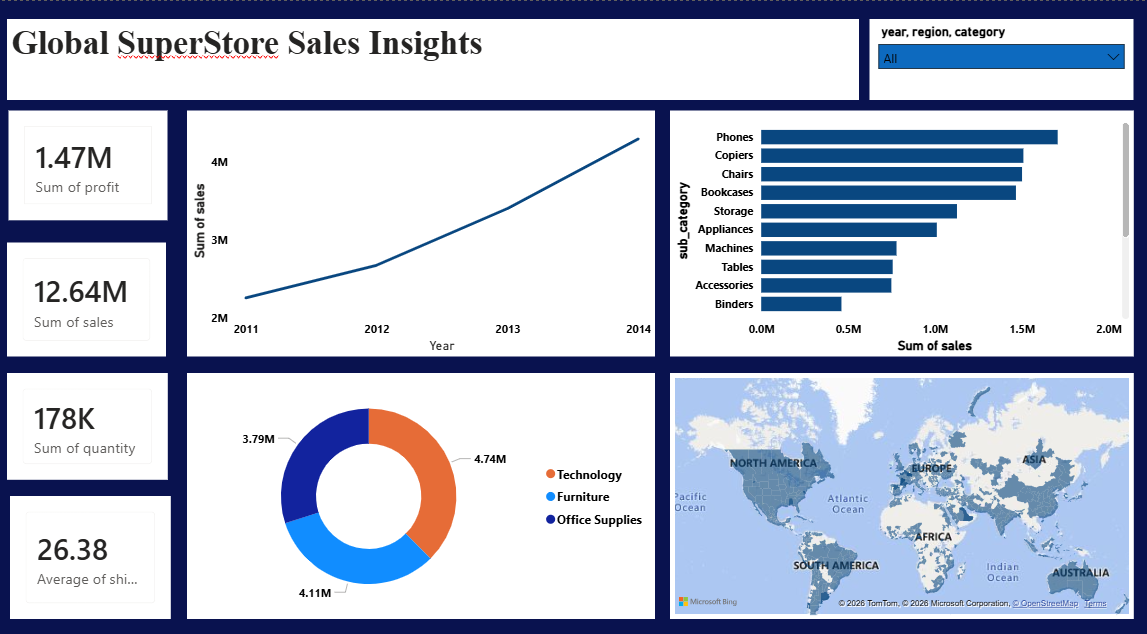

Layout of this report page (visuals, bound fields, positions):
{"tool":"powerbi","page":{"name":"Page 1","canvas":[1280,720],"ordinal":0},"visuals":[{"type":"textbox","box":[10,20,946.7,90],"z":0},{"type":"cardVisual","fields":{"Data":["Sum(SuperStoreOrders.sales)"]},"box":[10,268.3,176.7,126.7],"z":1000},{"type":"cardVisual","fields":{"Data":["Sum(SuperStoreOrders.profit)"]},"box":[11.7,121.7,176.7,121.7],"z":2000},{"type":"cardVisual","fields":{"Data":["Sum(SuperStoreOrders.quantity)"]},"box":[10,413.3,178.3,118.3],"z":3000},{"type":"lineChart","fields":{"Category":["SuperStoreOrders.order_date.Variation.Date Hierarchy.Year","SuperStoreOrders.order_date.Variation.Date Hierarchy.Quarter","SuperStoreOrders.order_date.Variation.Date Hierarchy.Month","SuperStoreOrders.order_date.Variation.Date Hierarchy.Day"],"Y":["Sum(SuperStoreOrders.sales)"]},"box":[210,121.7,520,273.3],"z":4000},{"type":"donutChart","fields":{"Category":["SuperStoreOrders.category"],"Y":["Sum(SuperStoreOrders.sales)"]},"box":[210,413.3,520,273.3],"z":5000},{"type":"barChart","fields":{"Category":["SuperStoreOrders.sub_category"],"Y":["Sum(SuperStoreOrders.sales)"]},"box":[746.7,121.7,515,273.3],"z":6000},{"type":"filledMap","fields":{"Category":["SuperStoreOrders.state"]},"box":[746.7,413.3,515,273.3],"z":7000},{"type":"slicer","fields":{"Values":["SuperStoreOrders.year","SuperStoreOrders.region","SuperStoreOrders.category"]},"box":[968.3,20,293.3,90],"z":7001},{"type":"cardVisual","fields":{"Data":["Avg(SuperStoreOrders.shipping_cost)"]},"box":[13.3,550,178.3,136.7],"z":7002}]}

Visuals, with their boxes in screenshot pixels (x1, y1, x2, y2), scaled from the page's 1280x720 canvas onto the 1147x634 screenshot:
textbox: [9,18,857,97]
cardVisual - Sum(SuperStoreOrders.sales): [9,236,167,348]
cardVisual - Sum(SuperStoreOrders.profit): [10,107,169,214]
cardVisual - Sum(SuperStoreOrders.quantity): [9,364,169,468]
lineChart - SuperStoreOrders.order_date.Variation.Date Hierarchy.Year x SuperStoreOrders.order_date.Variation.Date Hierarchy.Quarter: [188,107,654,348]
donutChart - SuperStoreOrders.category x Sum(SuperStoreOrders.sales): [188,364,654,605]
barChart - SuperStoreOrders.sub_category x Sum(SuperStoreOrders.sales): [669,107,1131,348]
filledMap - SuperStoreOrders.state: [669,364,1131,605]
slicer - SuperStoreOrders.year x SuperStoreOrders.region: [868,18,1131,97]
cardVisual - Avg(SuperStoreOrders.shipping_cost): [12,484,172,605]
